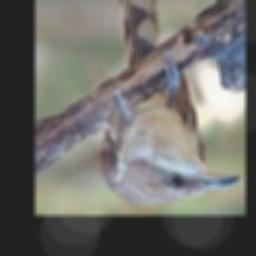Cuckoo: (99, 0, 242, 206)
